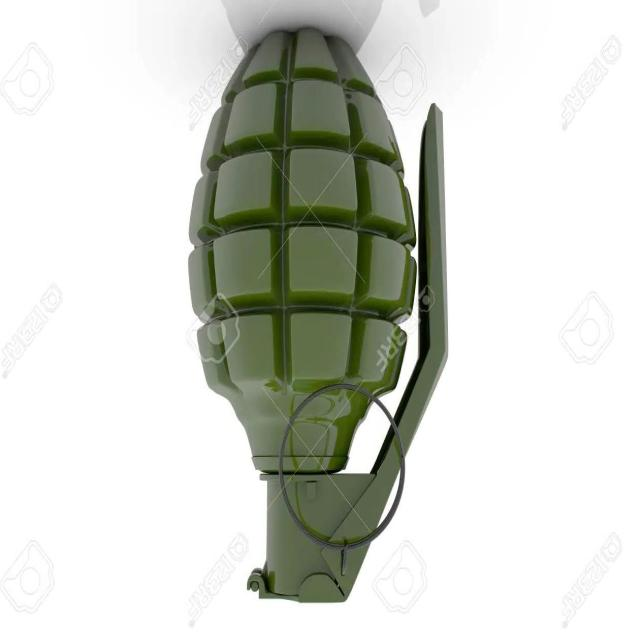grenade: (188, 27, 450, 604)
